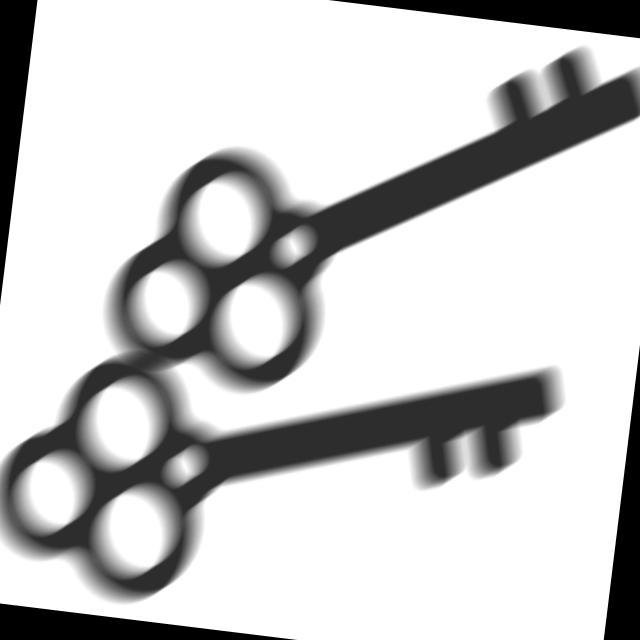key: (85, 1, 640, 461), (1, 290, 580, 640)
